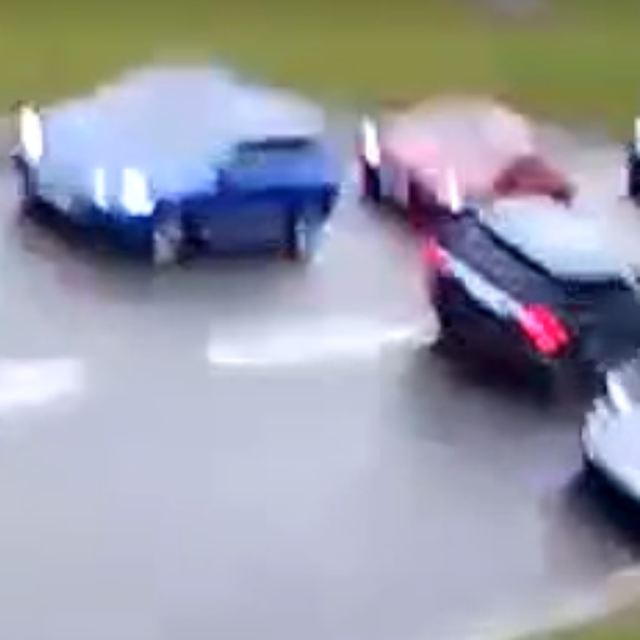car: (16, 62, 342, 267), (426, 194, 640, 389), (358, 96, 580, 226)
